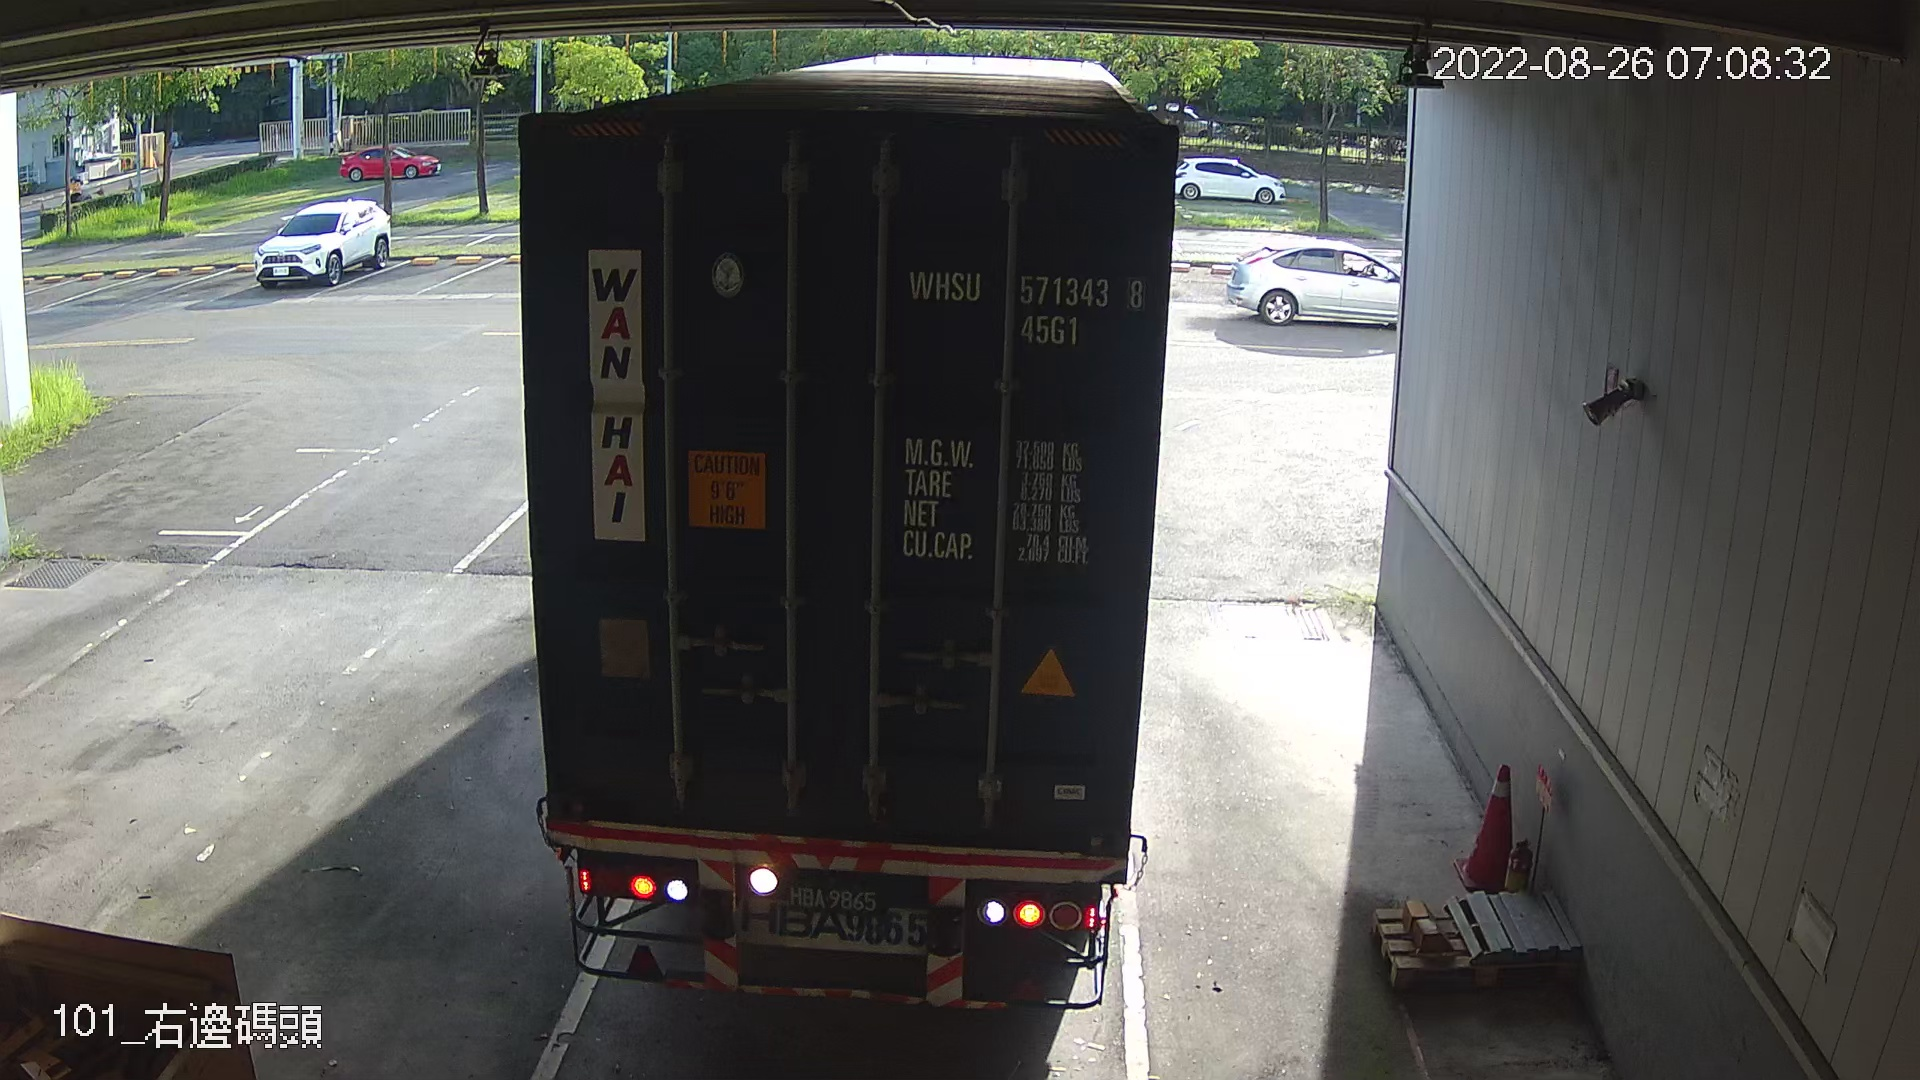container: (899, 252, 1153, 360)
